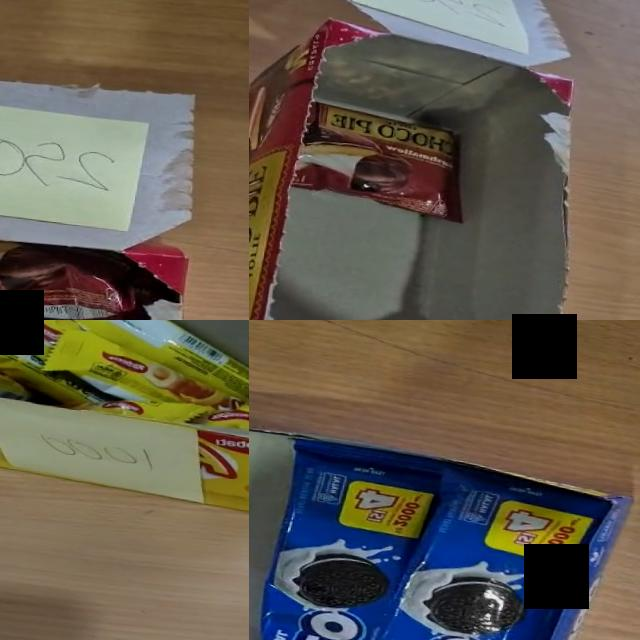Ahh: (38, 322, 249, 413), (39, 320, 249, 408), (0, 320, 168, 404), (0, 326, 127, 412), (68, 392, 218, 426), (0, 320, 93, 348), (193, 390, 249, 436)
Chocopie: (287, 100, 472, 222), (0, 230, 146, 320)
Oreo: (308, 453, 632, 640), (249, 432, 447, 640)
